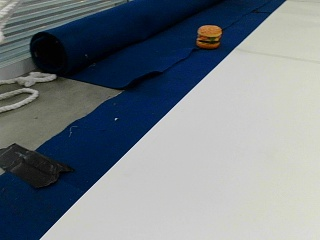burger: (196, 23, 222, 48)
